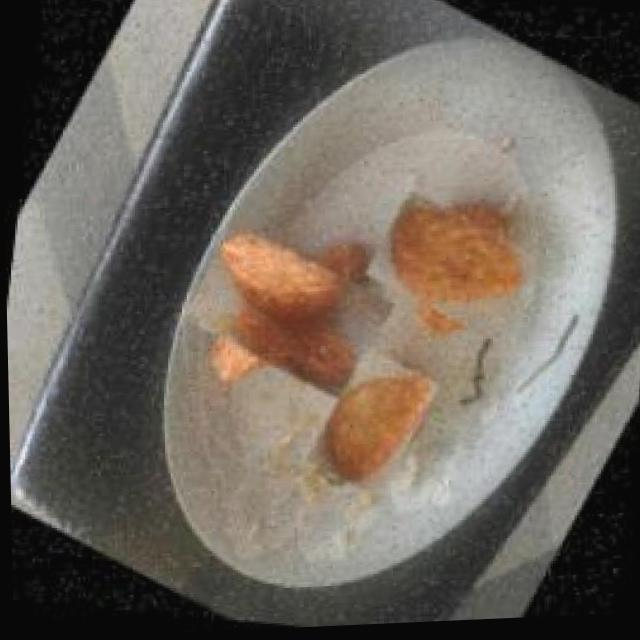triangle_hash_brown: (177, 201, 396, 424), (358, 176, 540, 361), (294, 340, 442, 513)
